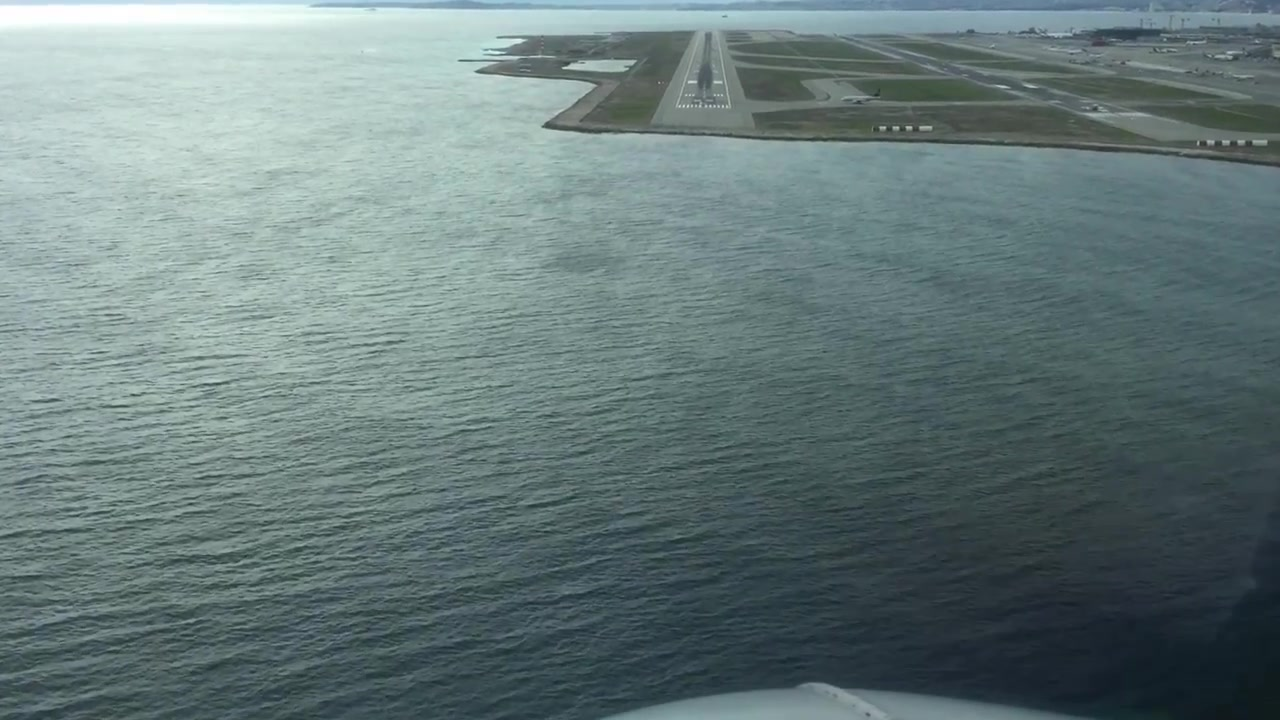entrance: (677, 101, 728, 110)
runway: (826, 34, 1154, 117), (651, 30, 755, 130)
